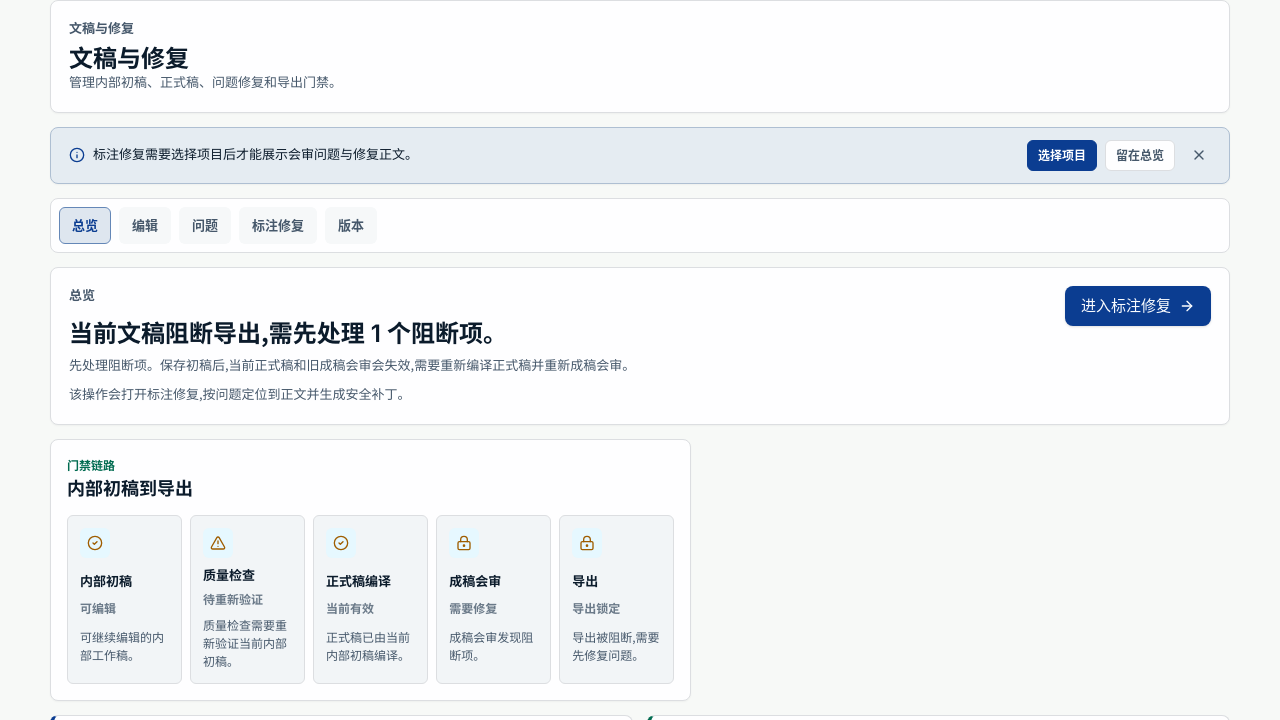
Test: DocumentRepairWorkspace › navigates to projects workspace when clicking the primary action button in no-project guidance
The image size is (1280, 720).
Expected: the text "标注修复需要选择项目后才能展示会审问题与修复正文。" is shown, [93,146,418,165]
Click the button "选择项目": (1062, 156) [1027,140,1097,171]
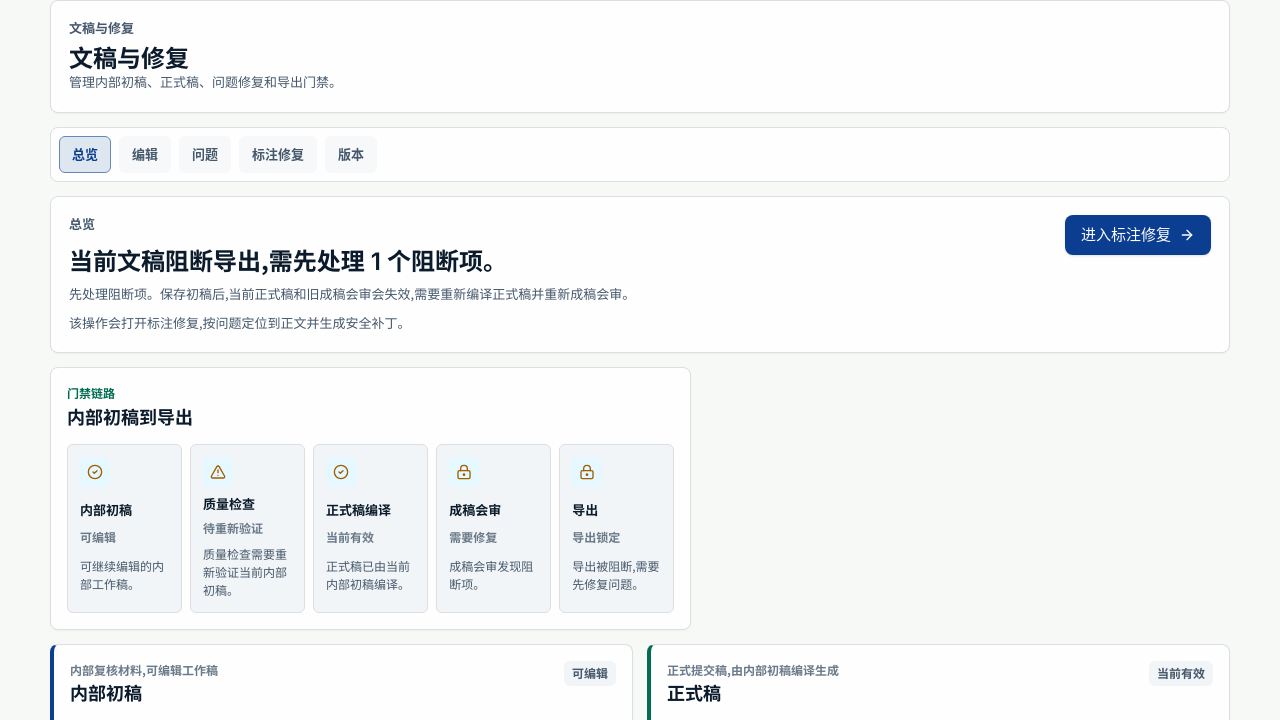
Expected: the text "标注修复需要选择项目后才能展示会审问题与修复正文。" is gone
